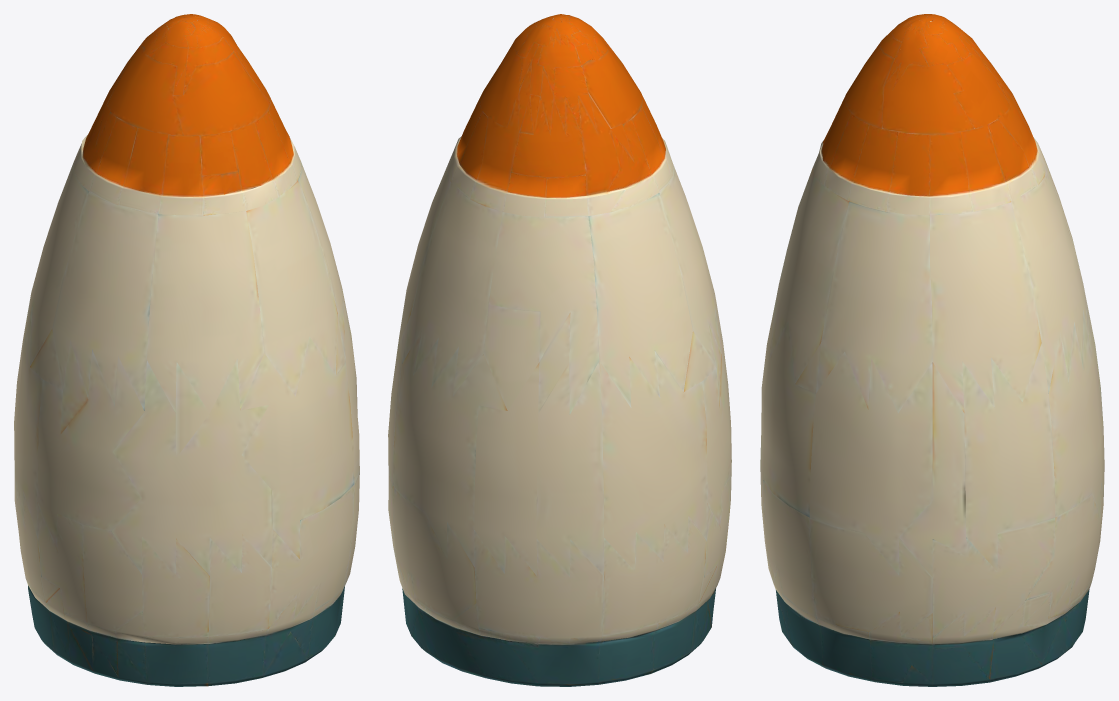
Rendered from rocket_nose-lod0.e16e141e534b.glb.
3 renders of one model, left to right at view 1: azimuth 30°, elevation 25°; view 2: azimuth 150°, elevation 25°; view 3: azimuth 270°, elevation 25°, orthographic.
Parts seen in each view (by area): view 1: geometry_0; view 2: geometry_0; view 3: geometry_0.
Boxes of the visible parts, bbox=[...] form: geometry_0: bbox=[14, 14, 359, 686]; geometry_0: bbox=[388, 14, 731, 686]; geometry_0: bbox=[760, 14, 1104, 686].
Bounding box in the file's own units: 0.4878 × 0.9507 × 0.4878.
Materials: 1 (1 with a texture image).
